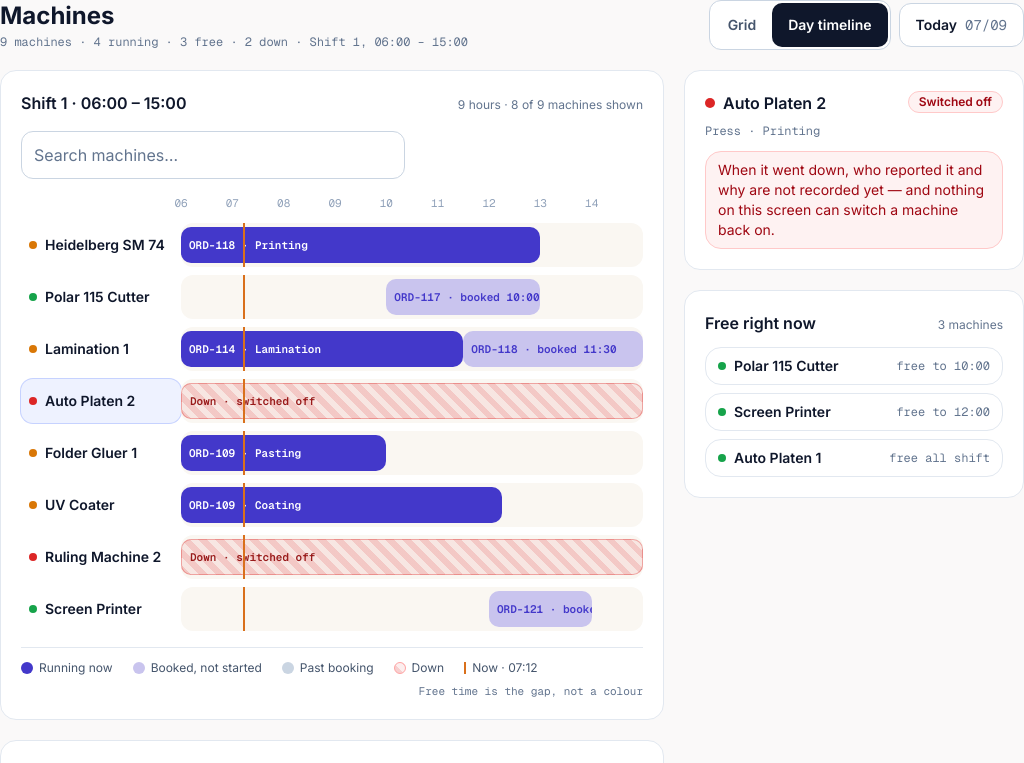
Test: the Grid | Day timeline toggle › switching to Grid shows the existing card grid and hides the timeline
Click the button "Grid". click: (742, 25)
box: [712, 3, 772, 47]
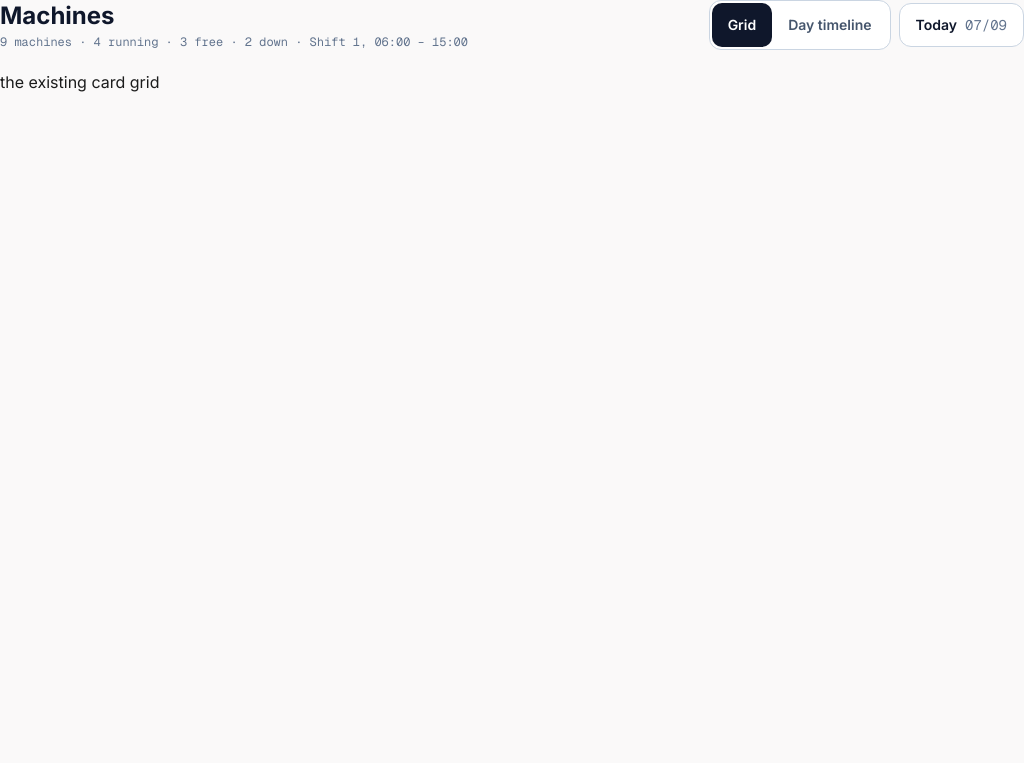
Now the text "the existing card grid" is shown, box [0, 72, 159, 92]
Now the text "machines shown" is gone
